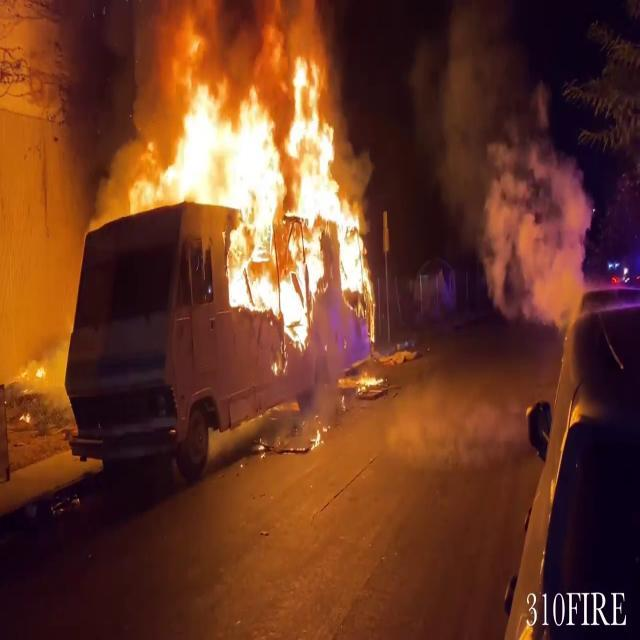Fire: (127, 4, 379, 322)
Smoke: (428, 0, 590, 318)
